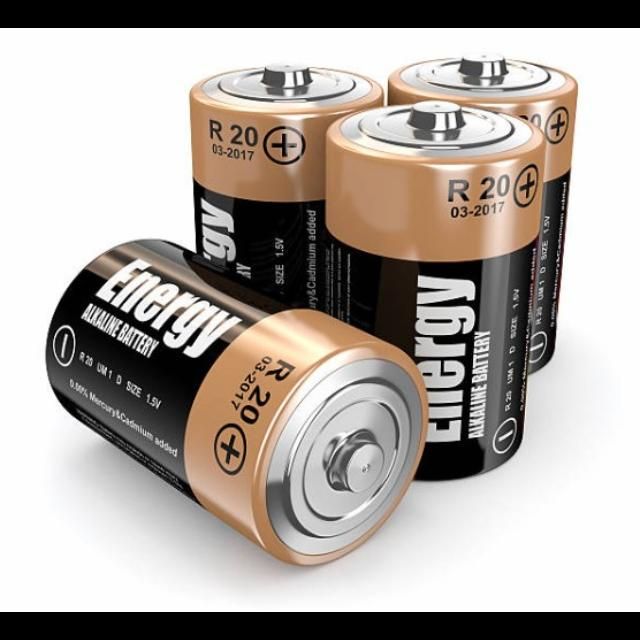Battery: (45, 240, 427, 567), (327, 101, 547, 481), (190, 64, 382, 309)
